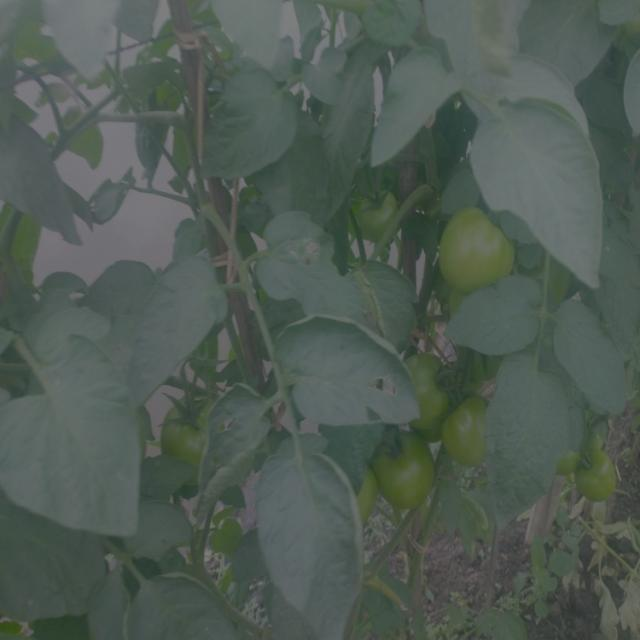tomato: (436, 203, 516, 295), (378, 435, 447, 512), (394, 349, 453, 436), (159, 391, 219, 463), (354, 180, 404, 246), (448, 400, 496, 467), (340, 461, 377, 523), (537, 250, 573, 310), (588, 448, 619, 498), (554, 446, 582, 482), (586, 417, 614, 447)
